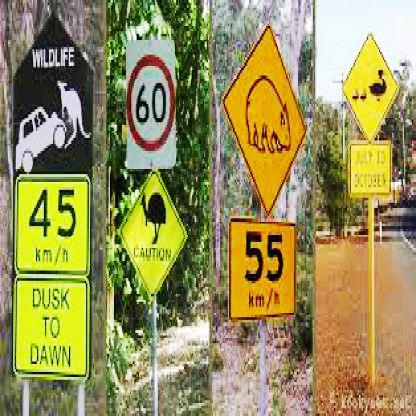Speed Limit -60-: (123, 50, 177, 150)
